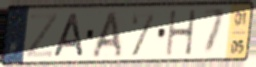7: (130, 10, 157, 59), (202, 7, 226, 58)
A: (89, 10, 124, 60), (52, 12, 86, 59)
H: (165, 8, 198, 58)
Z: (24, 12, 59, 60)
